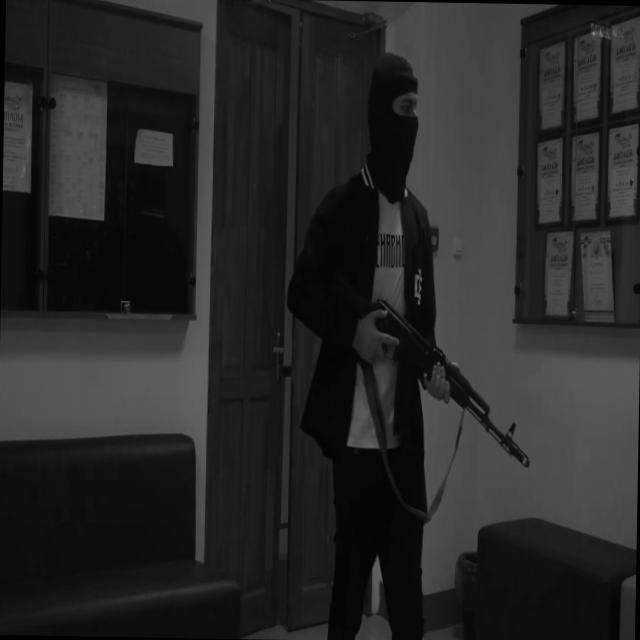gun: (324, 267, 534, 469)
person with a gun: (279, 50, 537, 640)
